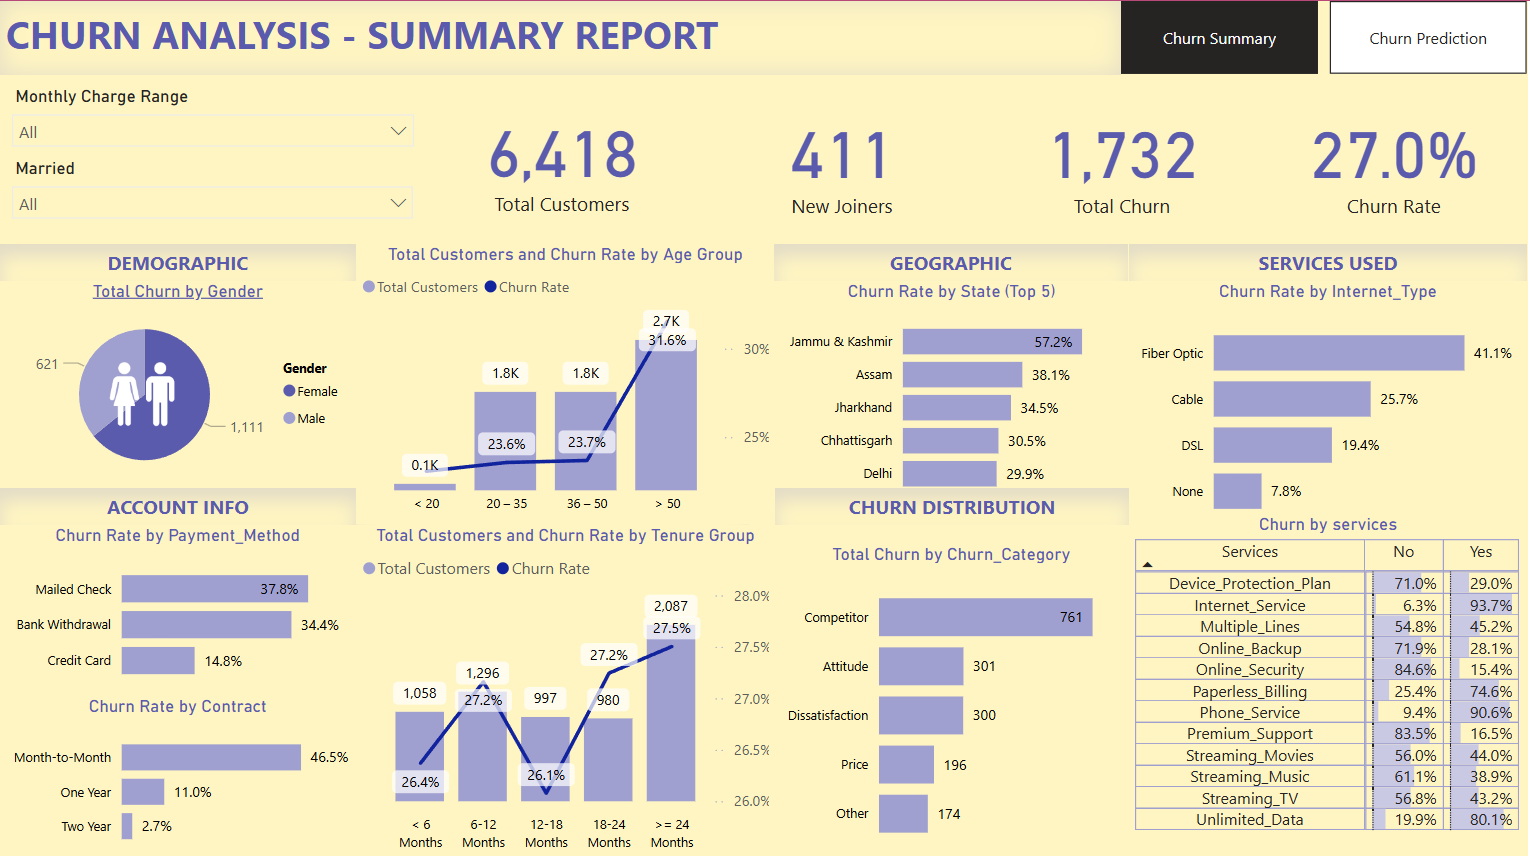

The dashboard page shown, as its layout file describes it:
{"tool":"powerbi","page":{"name":"Churn Summary","canvas":[1280,720],"ordinal":0},"visuals":[{"type":"lineStackedColumnComboChart","fields":{"Category":["mapping_TenureGrp.Tenure Group"],"Y":["tbl_Measures.Total Customers"],"Y2":["tbl_Measures.Churn Rate"]},"box":[298.5,360,329.3,360],"z":0},{"type":"donutChart","fields":{"Category":["prod_Churn.Gender"],"Y":["tbl_Measures.Total Churn"]},"box":[0,234.5,298.2,173.6],"z":1000},{"type":"lineStackedColumnComboChart","fields":{"Category":["mapping_AgeGrp. Age Group"],"Y":["tbl_Measures.Total Customers"],"Y2":["tbl_Measures.Churn Rate"]},"box":[298.2,203.6,350.9,235.5],"z":2000},{"type":"clusteredBarChart","fields":{"Category":["prod_Churn.Payment_Method"],"Y":["tbl_Measures.Churn Rate"]},"box":[0,438.9,297.8,143.3],"z":3000},{"type":"clusteredBarChart","fields":{"Category":["prod_Churn.Contract"],"Y":["tbl_Measures.Churn Rate"]},"box":[0,582.2,297.8,137.8],"z":4000},{"type":"lineStackedColumnComboChart","fields":{"Category":["mapping_TenureGrp.Tenure Group"],"Y":["tbl_Measures.Total Customers"],"Y2":["tbl_Measures.Churn Rate"]},"box":[298.2,439.1,350.9,280.9],"z":5000},{"type":"clusteredBarChart","fields":{"Category":["prod_Churn.Churn_Category"],"Y":["tbl_Measures.Total Churn"]},"box":[649.1,455.5,297.3,264.5],"z":6000},{"type":"clusteredBarChart","title":"Churn Rate by State (Top 5)","fields":{"Category":["prod_Churn.State"],"Y":["tbl_Measures.Churn Rate"]},"box":[649.1,234.5,297.3,189.1],"z":7000},{"type":"clusteredBarChart","fields":{"Category":["prod_Churn.Internet_Type"],"Y":["tbl_Measures.Churn Rate"]},"box":[946.4,234.5,333.6,212.7],"z":8000},{"type":"pivotTable","title":"Churn by services","fields":{"Rows":["prod_Services.Services"],"Columns":["prod_Services.Status"],"Values":["Sum(prod_Services.Churn Status)"]},"box":[946.4,430,333.6,290],"z":9000},{"type":"card","fields":{"Values":["tbl_Measures.Total Customers"]},"box":[355.6,61.1,231.1,141.1],"z":10000},{"type":"card","fields":{"Values":["tbl_Measures.New Joiners"]},"box":[588.2,61.8,234.5,141.8],"z":11000},{"type":"card","fields":{"Values":["tbl_Measures.Total Churn"]},"box":[822.7,61.8,234.5,141.8],"z":12000},{"type":"card","fields":{"Values":["tbl_Measures.Churn Rate"]},"box":[1057.3,61.8,222.7,141.8],"z":13000},{"type":"textbox","box":[0,0,940,62],"z":14000},{"type":"textbox","box":[649.2,408.5,296.9,30.8],"z":15000},{"type":"textbox","box":[648.9,203.3,296.7,31.1],"z":16000},{"type":"textbox","box":[0,203.6,298.2,30.9],"z":17000},{"type":"textbox","box":[0,408.2,298.2,30.9],"z":18000},{"type":"textbox","box":[946.4,203.6,333.6,30.9],"z":19000},{"type":"slicer","fields":{"Values":["prod_Churn.Monthly Charge Status"]},"box":[0,66.7,356.7,65.6],"z":20000},{"type":"image","box":[78.2,290,82.7,78.2],"z":21000},{"type":"slicer","fields":{"Values":["prod_Churn.Married"]},"box":[0,127.3,356.4,65.5],"z":22000},{"type":"pageNavigator","box":[940,0,340,61],"z":22001}]}

Visuals, with their boxes in screenshot pixels (x1, y1, x2, y2), scaled from the page's 1280x720 canvas onto the 1530x856 screenshot:
lineStackedColumnComboChart - mapping_TenureGrp.Tenure Group x tbl_Measures.Total Customers: BBox(357, 428, 750, 855)
donutChart - prod_Churn.Gender x tbl_Measures.Total Churn: BBox(0, 279, 356, 485)
lineStackedColumnComboChart - mapping_AgeGrp. Age Group x tbl_Measures.Total Customers: BBox(356, 242, 776, 522)
clusteredBarChart - prod_Churn.Payment_Method x tbl_Measures.Churn Rate: BBox(0, 522, 356, 692)
clusteredBarChart - prod_Churn.Contract x tbl_Measures.Churn Rate: BBox(0, 692, 356, 855)
lineStackedColumnComboChart - mapping_TenureGrp.Tenure Group x tbl_Measures.Total Customers: BBox(356, 522, 776, 855)
clusteredBarChart - prod_Churn.Churn_Category x tbl_Measures.Total Churn: BBox(776, 542, 1131, 855)
"Churn Rate by State (Top 5)" clusteredBarChart: BBox(776, 279, 1131, 504)
clusteredBarChart - prod_Churn.Internet_Type x tbl_Measures.Churn Rate: BBox(1131, 279, 1529, 532)
"Churn by services" pivotTable: BBox(1131, 511, 1529, 855)
card - tbl_Measures.Total Customers: BBox(425, 73, 701, 240)
card - tbl_Measures.New Joiners: BBox(703, 73, 983, 242)
card - tbl_Measures.Total Churn: BBox(983, 73, 1264, 242)
card - tbl_Measures.Churn Rate: BBox(1264, 73, 1529, 242)
textbox: BBox(0, 0, 1124, 74)
textbox: BBox(776, 486, 1131, 522)
textbox: BBox(776, 242, 1130, 279)
textbox: BBox(0, 242, 356, 279)
textbox: BBox(0, 485, 356, 522)
textbox: BBox(1131, 242, 1529, 279)
slicer - prod_Churn.Monthly Charge Status: BBox(0, 79, 426, 157)
image: BBox(93, 345, 192, 438)
slicer - prod_Churn.Married: BBox(0, 151, 426, 229)
pageNavigator: BBox(1124, 0, 1529, 73)
